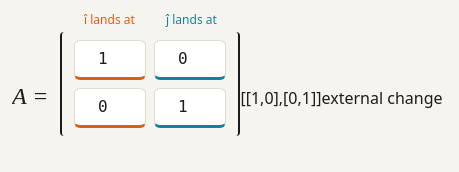
MatrixInput › rejects numbers outside the allowed range
Replace the text in the number field named "A row 2, column 2" with "50" at (190, 108), box [154, 88, 226, 128]
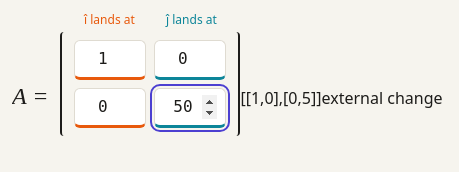
expect the text with test id "value" reads "[ [1,0],[0,5]]": met, box [240, 87, 322, 109]
